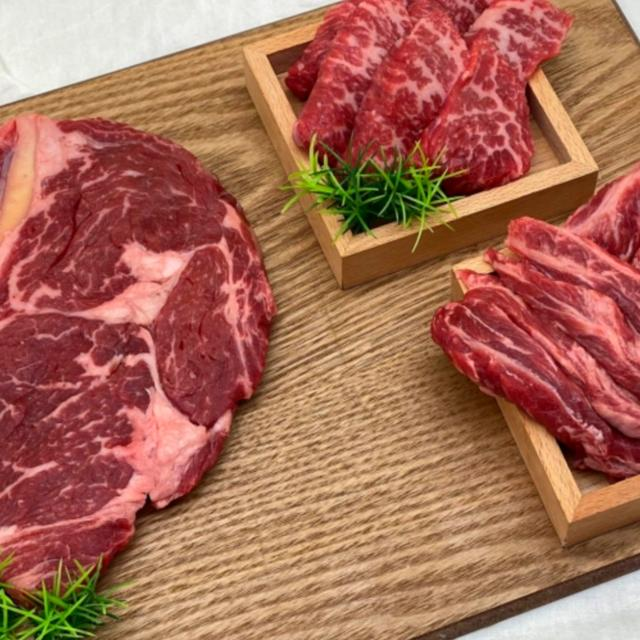beef: (0, 139, 260, 525), (481, 175, 640, 447), (315, 0, 520, 138)
